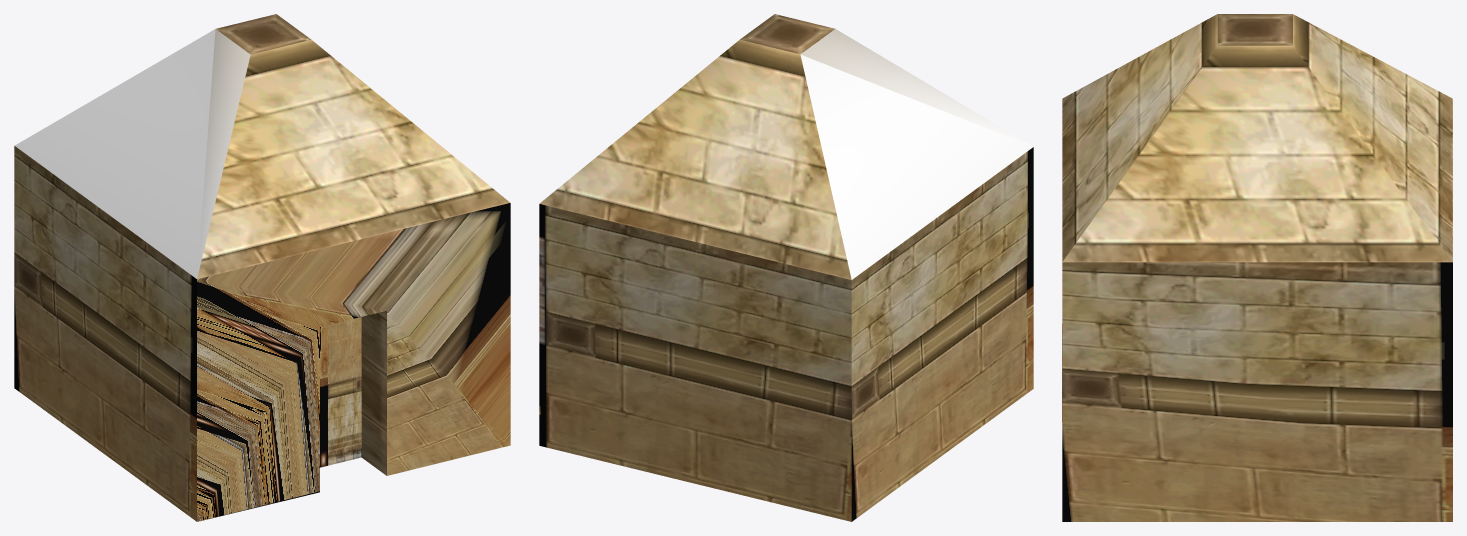
The model's file is DesertTown - house - S_col.fbx.
3 renders of one model, left to right at view 1: azimuth 30°, elevation 25°; view 2: azimuth 150°, elevation 25°; view 3: azimuth 270°, elevation 25°, orthographic. The views are drawn at different scales.
Parts seen in each view (by area): view 1: DesertTown_house_M1_col; view 2: DesertTown_house_M1_col; view 3: DesertTown_house_M1_col.
Part boxes in pixels (<box>): DesertTown_house_M1_col: <box>14,14,510,521</box>; DesertTown_house_M1_col: <box>539,14,1033,521</box>; DesertTown_house_M1_col: <box>1062,14,1452,521</box>.
Bounding box in the file's own units: 3.54 × 4.14 × 3.57.
